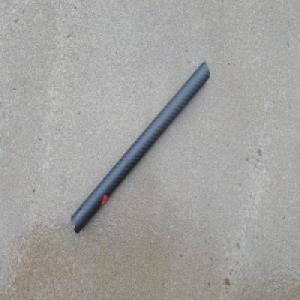LuggagePart: (69, 60, 210, 236)
